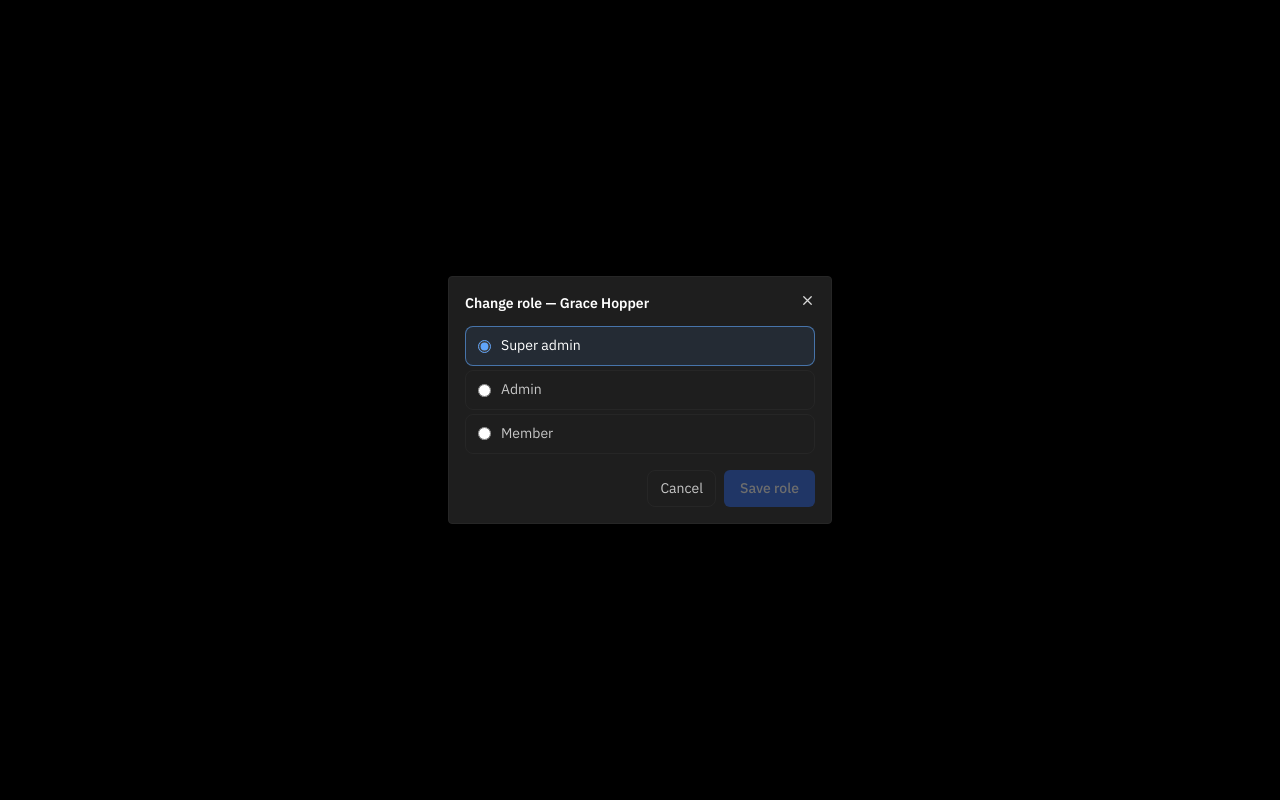
Test case: change role — 409 surfaces › shows the {detail} sentence and keeps the dialog open
This screenshot has width=1280, height=800.
Click the radio button labelled "Member". click: [484, 434]
box: [478,427,491,440]
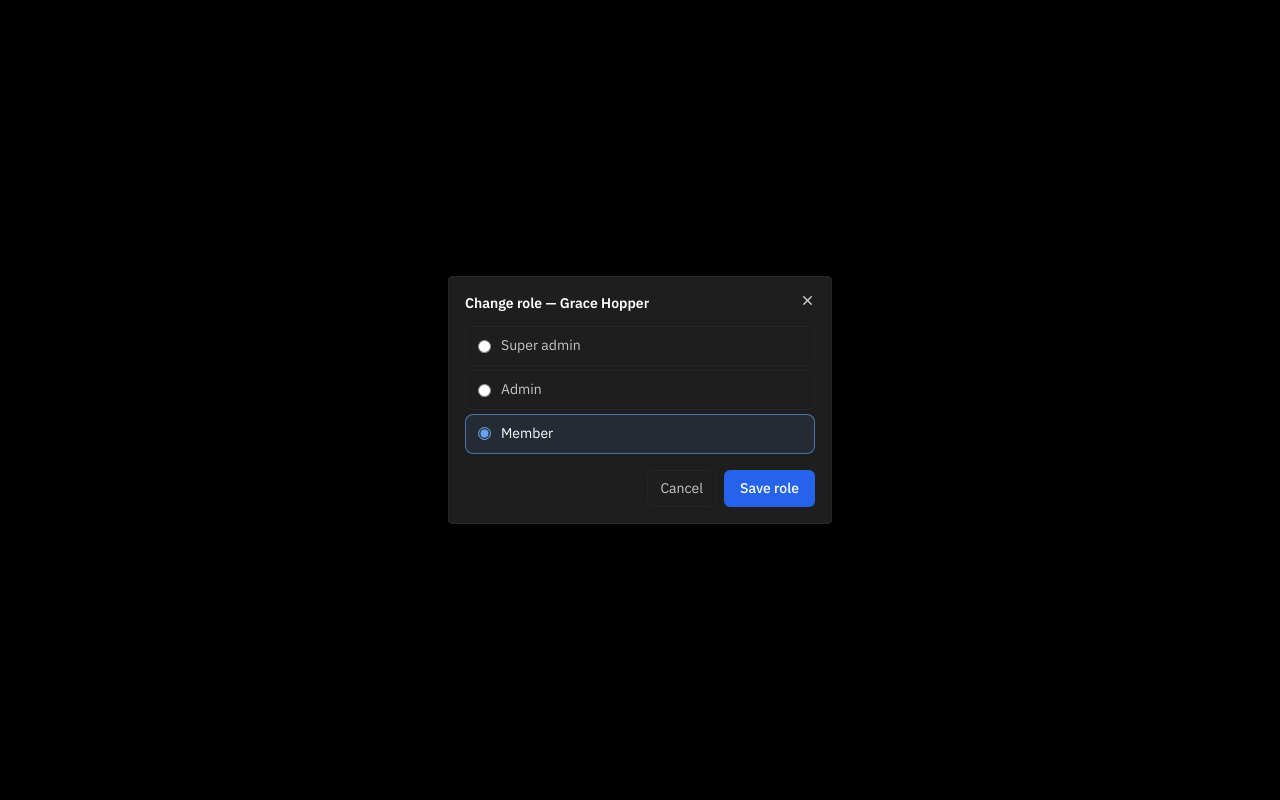
Click the button "Save role". click: [770, 488]
box: [724,470,815,507]
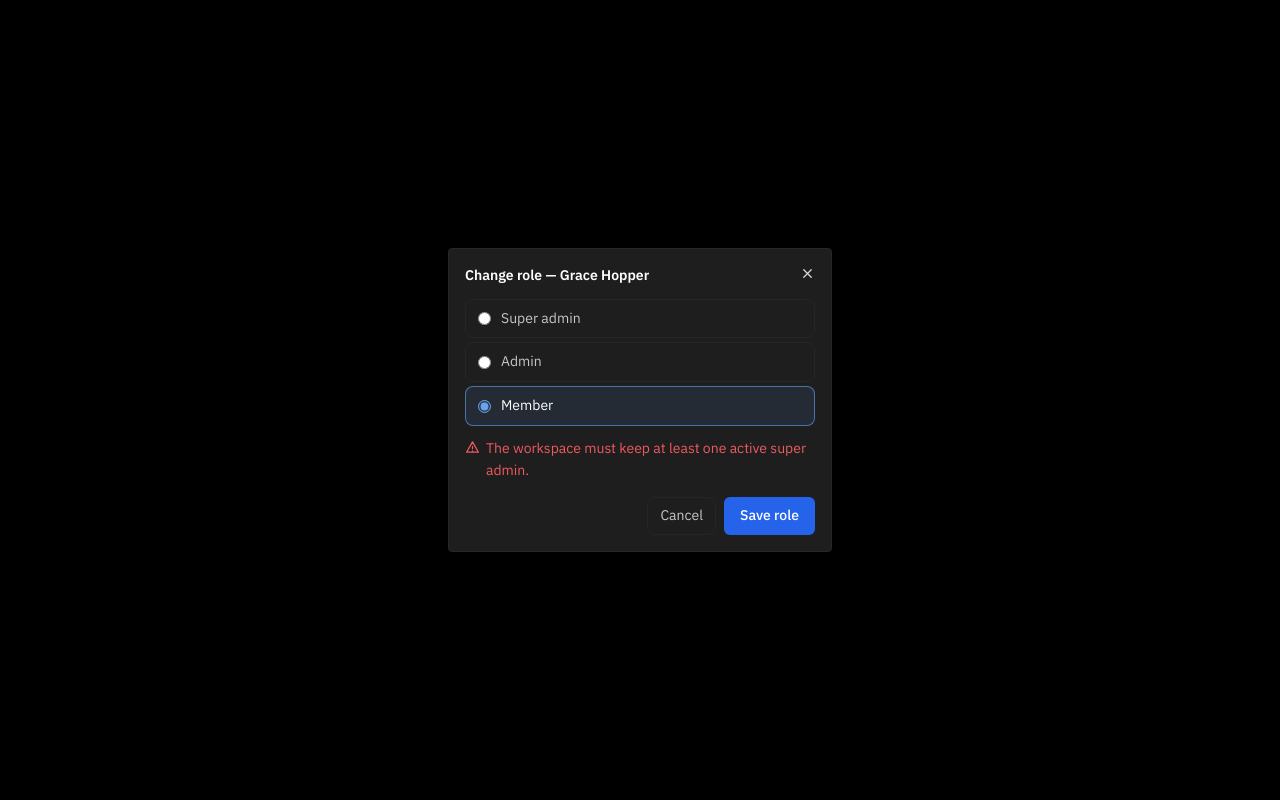
Check: the button "Save role" is shown, box [724,497,815,535]
Check: the text "The workspace must keep at least one active super admin." is shown, box [465,438,815,481]
